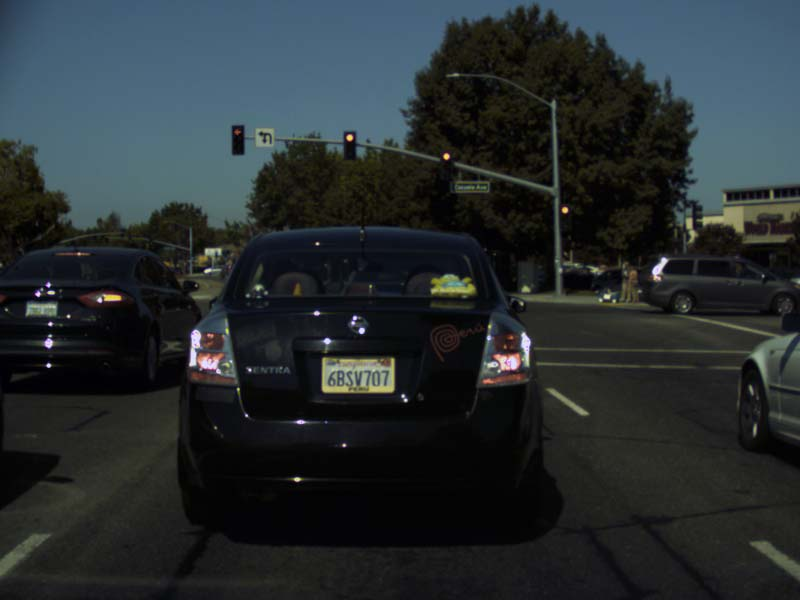Green: (225, 252, 229, 257)
Red: (231, 124, 245, 153), (439, 149, 452, 179), (343, 131, 356, 159), (560, 203, 570, 232)
